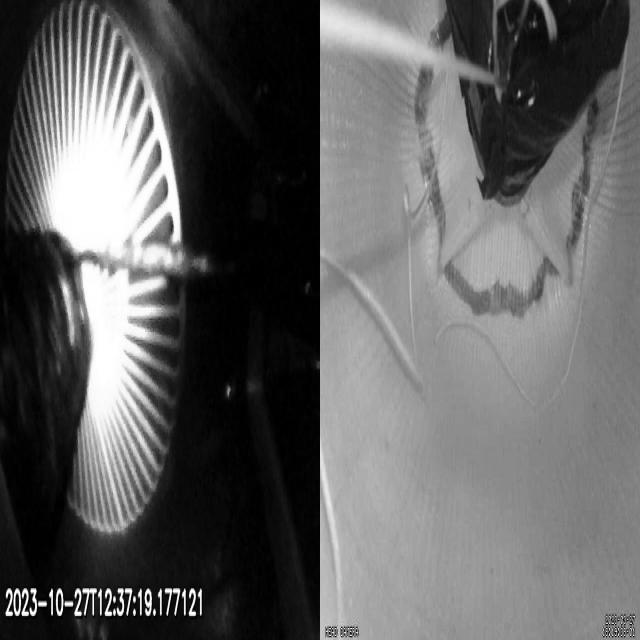red-circle: (416, 16, 598, 316)
